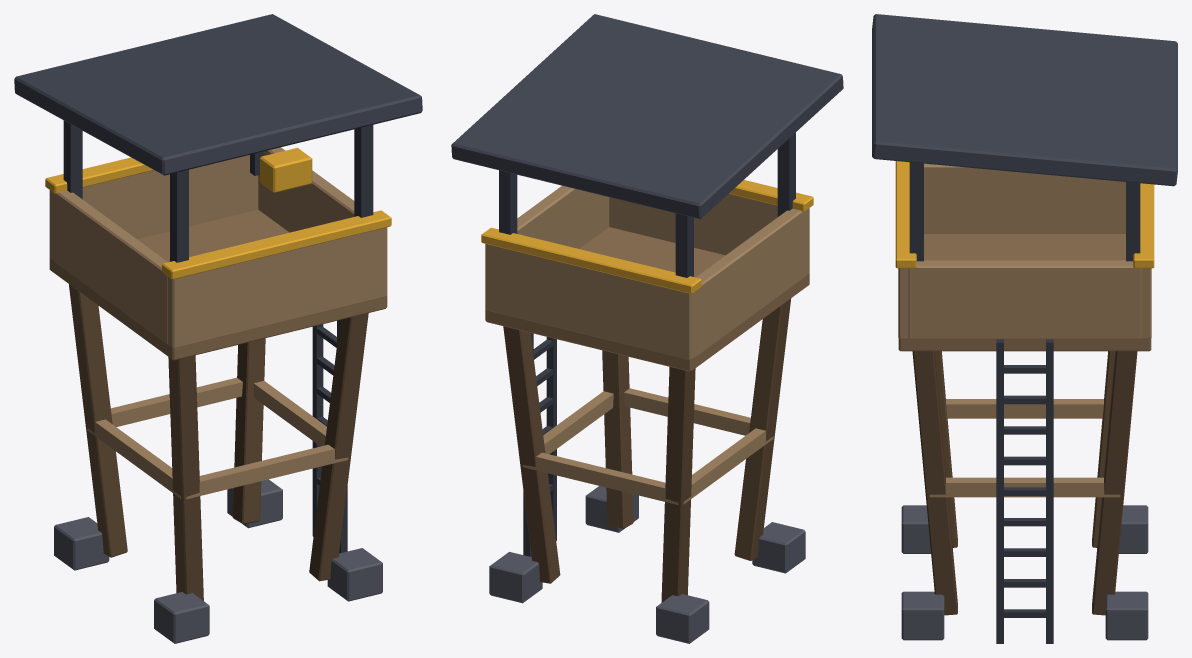
File: Stylized_Landmark_GuardWatchtower.fbx
3 views of the same model, side by side, from view 1: azimuth 30°, elevation 25°; view 2: azimuth 150°, elevation 25°; view 3: azimuth 270°, elevation 25° (orthographic). The views are drawn at different scales.
Visible parts, largest first — view 1: Stylized_Landmark_GuardWatchtower; view 2: Stylized_Landmark_GuardWatchtower; view 3: Stylized_Landmark_GuardWatchtower.
Part boxes in pixels (left/top/right/bottom): Stylized_Landmark_GuardWatchtower: left=14, top=14, right=422, bottom=643; Stylized_Landmark_GuardWatchtower: left=451, top=14, right=843, bottom=643; Stylized_Landmark_GuardWatchtower: left=872, top=14, right=1177, bottom=643.
Bounding box in the file's own units: 3.45 × 6.36 × 3.45.
